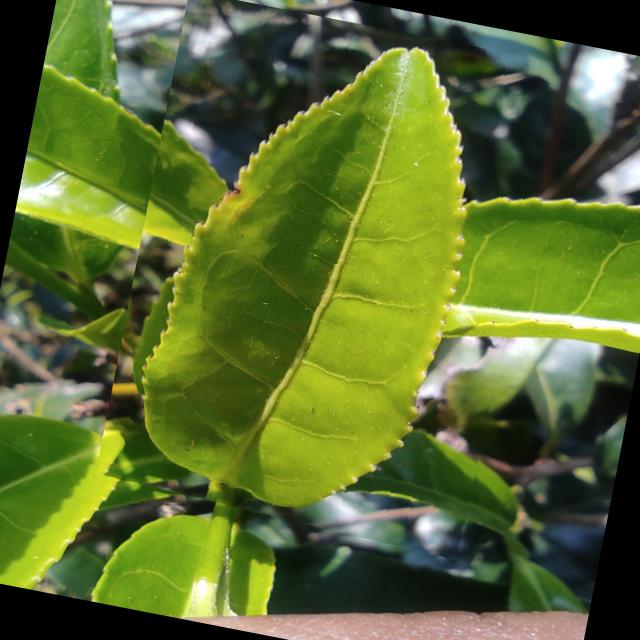Category C(4-7 days): (92, 0, 564, 562)
